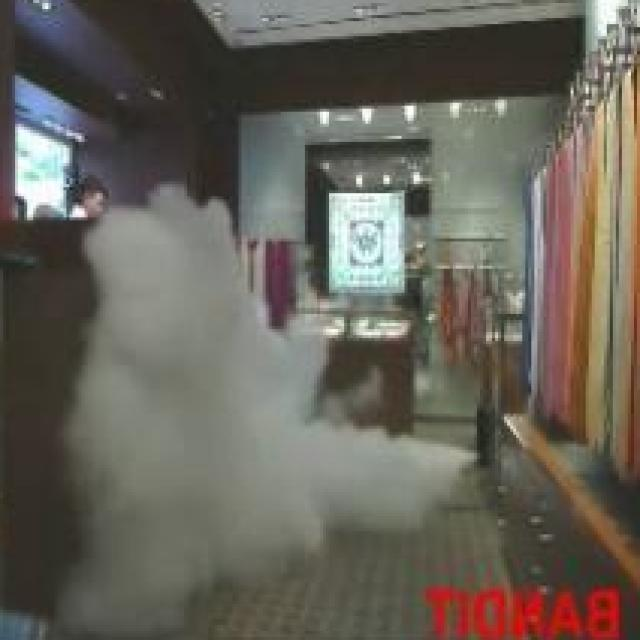fire: (51, 181, 474, 640)
